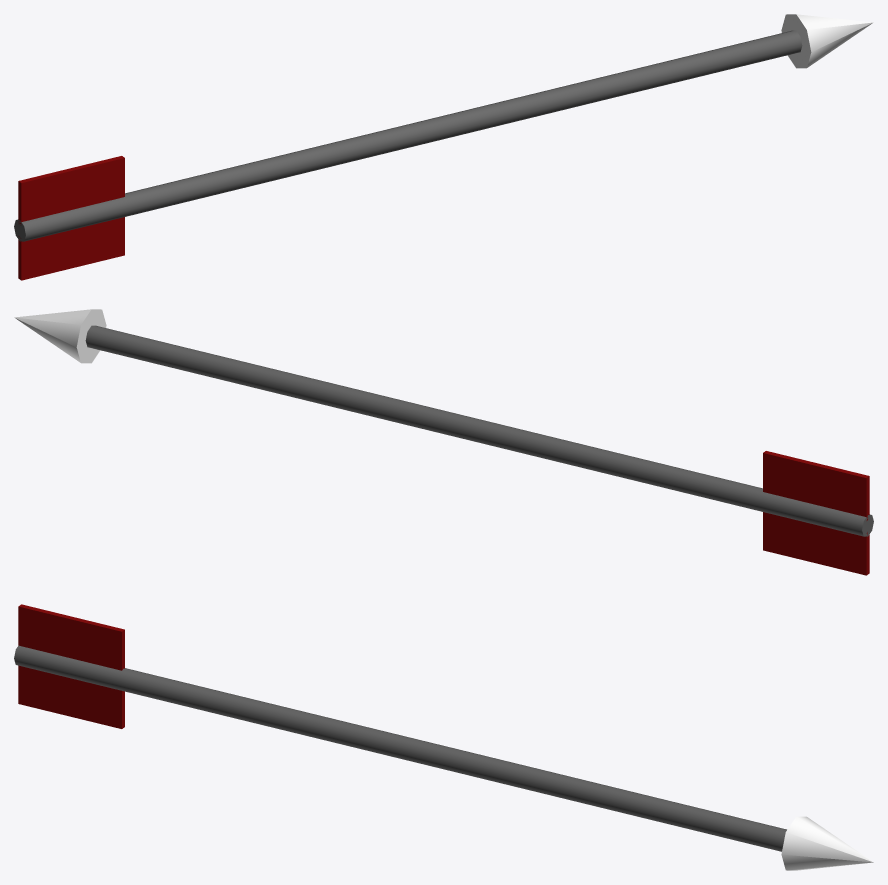
The model's file is steel_arrow.glb.
The picture shows the model from 3 angles, top to bottom: view 1: azimuth 30°, elevation 25°; view 2: azimuth 150°, elevation 25°; view 3: azimuth 330°, elevation 25°; orthographic projection.
Visible parts, largest first — view 1: Arrow; view 2: Arrow; view 3: Arrow.
Part boxes in pixels (<box>): Arrow: <box>14,14,873,280</box>; Arrow: <box>14,309,873,575</box>; Arrow: <box>14,604,873,870</box>.
Bounding box in the file's own units: 1.65 × 0.18 × 0.1.
